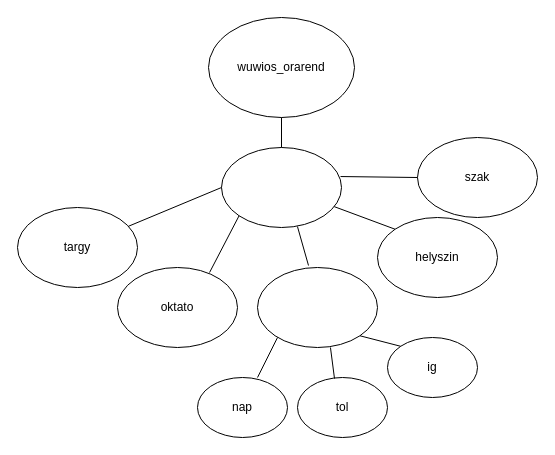
Image size: 555x455. Some labels were removed from this diagram. Here are the shapes that lost their labels. From the top down, the centre of each, then its label:
(x=281, y=187): ora
(x=317, y=307): idopont
